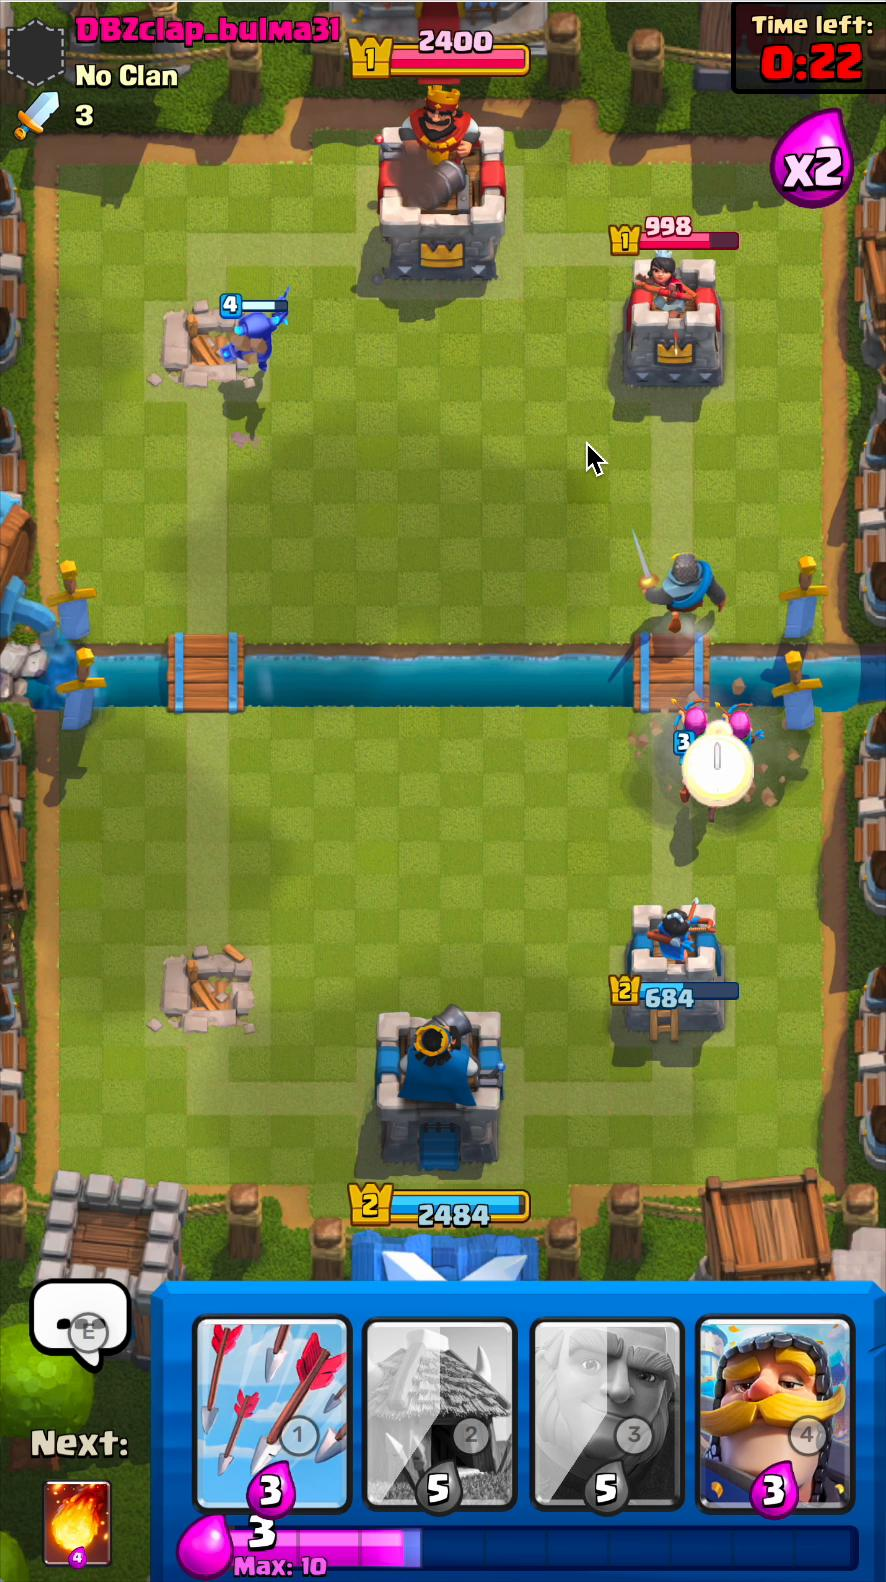archere: (675, 703, 703, 782), (722, 702, 761, 745)
chevalier: (625, 525, 728, 641)
mini_PEKKA: (217, 306, 297, 378)
